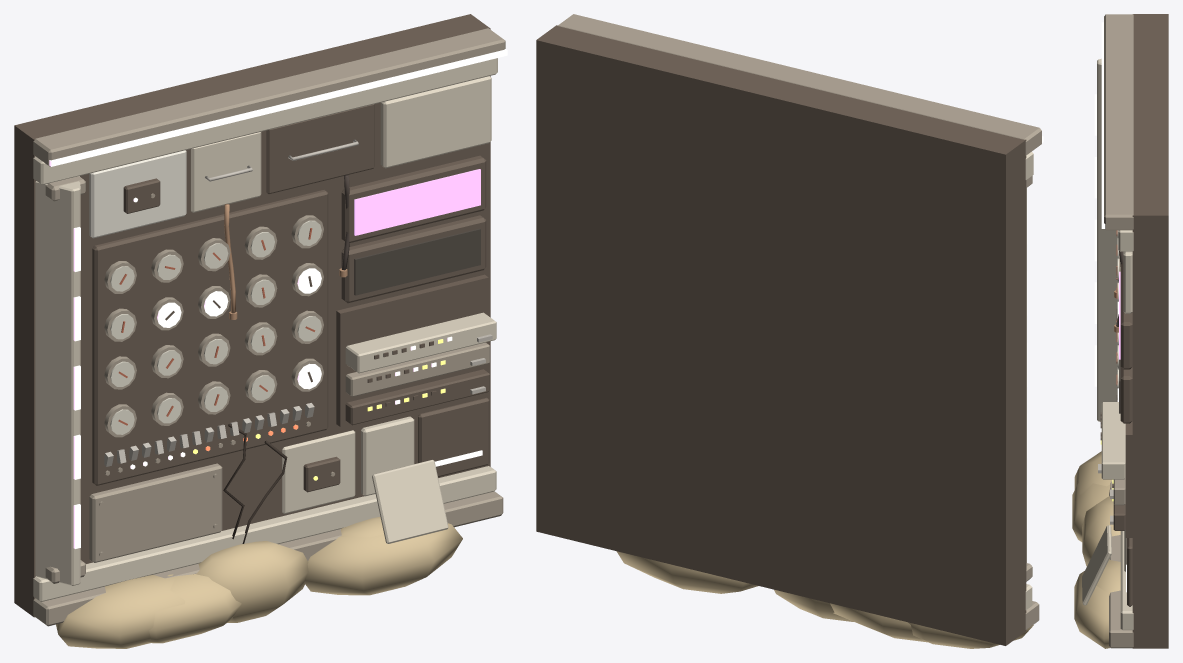
File: wall_du_gauges.glb
3 renders of one model, left to right at view 1: azimuth 30°, elevation 25°; view 2: azimuth 150°, elevation 25°; view 3: azimuth 270°, elevation 25°, orthographic. The views are drawn at different scales.
Parts seen in each view (by area): view 1: wall_du_gauges; view 2: wall_du_gauges; view 3: wall_du_gauges.
Boxes of the visible parts, box(x1,y1,x2,y2) form: wall_du_gauges: box(14, 14, 507, 648); wall_du_gauges: box(536, 14, 1043, 648); wall_du_gauges: box(1072, 14, 1168, 648).
Size of the model in its own units: 4.01 by 4.37 by 0.8055.
